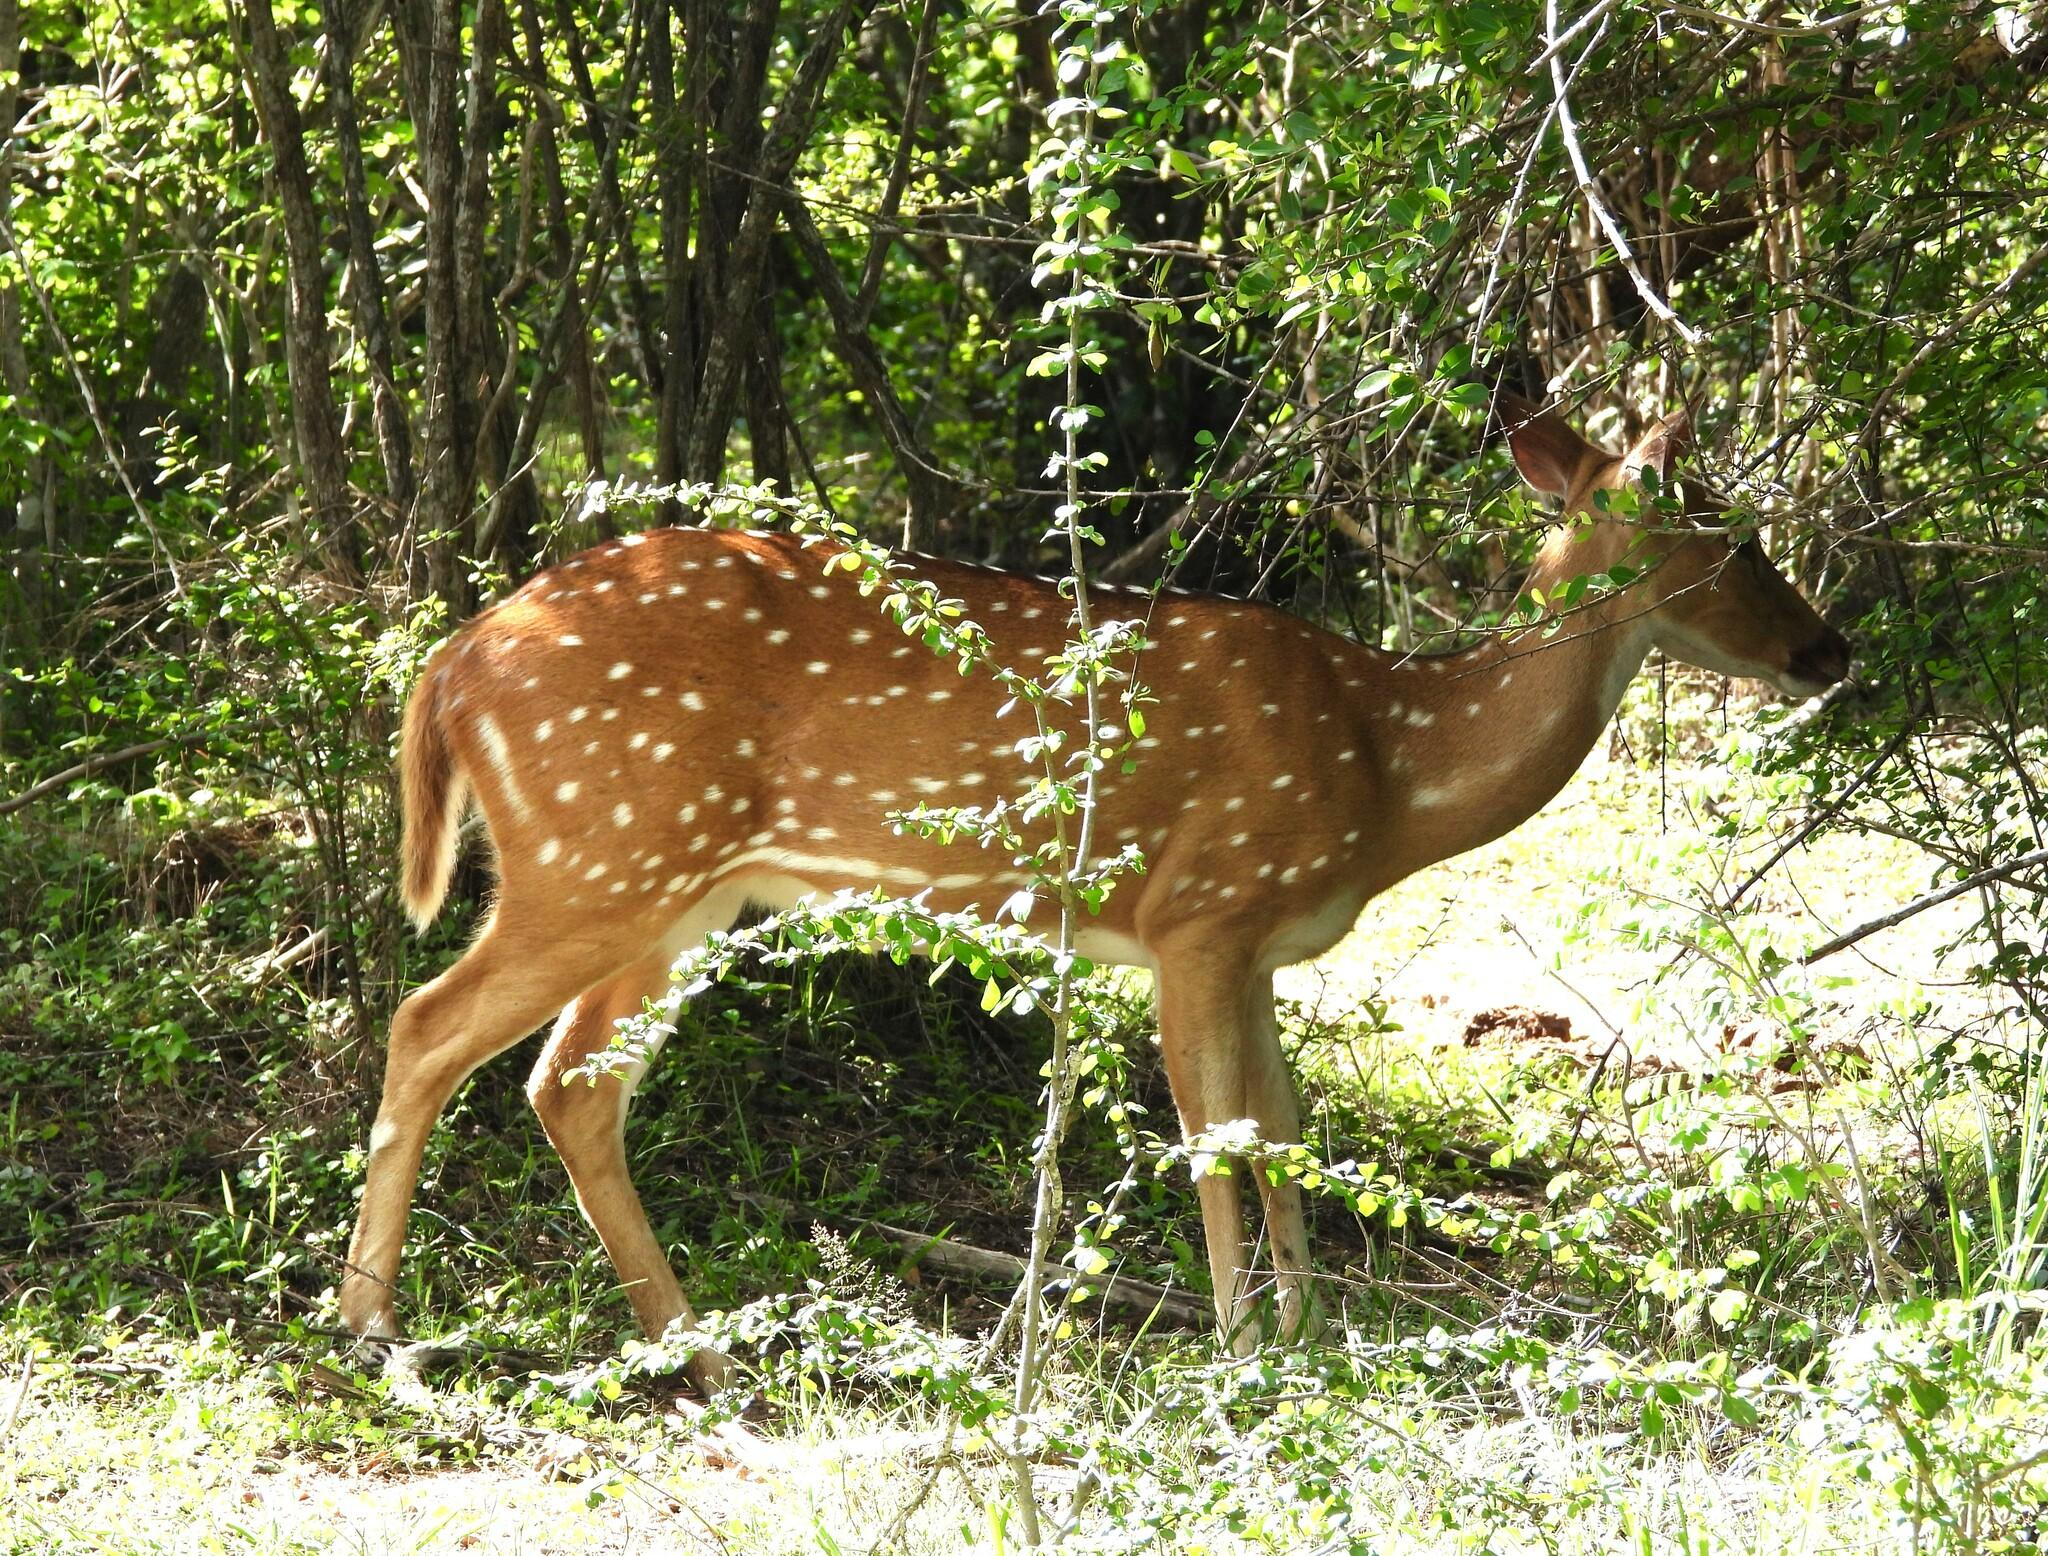Deer: (340, 392, 1847, 1353)
